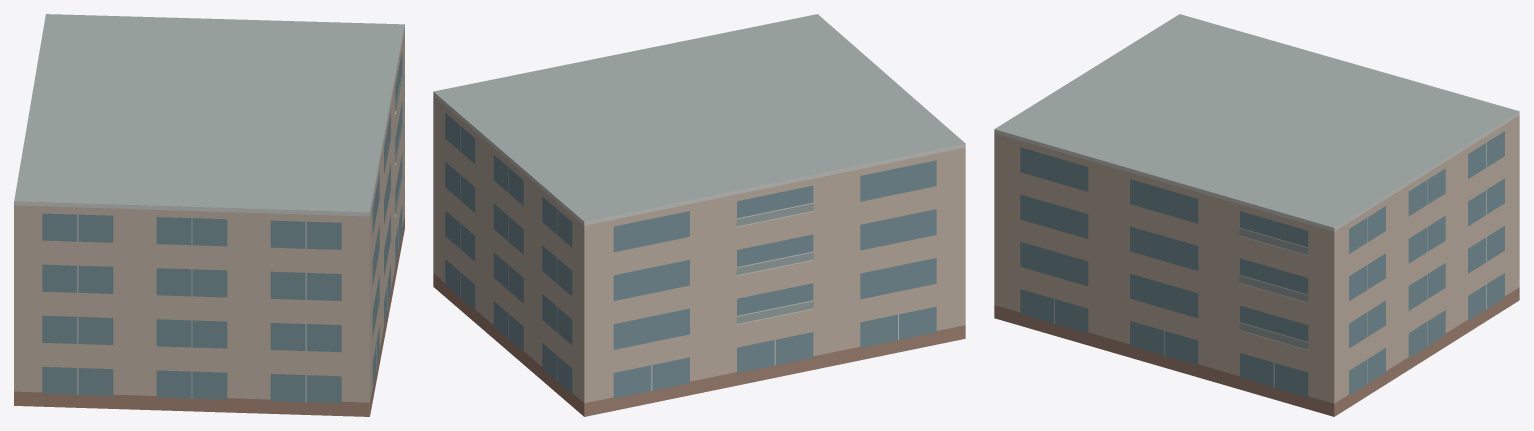
The model's file is survey-upis-32824335.glb.
The picture shows the model from 3 angles, left to right: view 1: azimuth 30°, elevation 25°; view 2: azimuth 150°, elevation 25°; view 3: azimuth 270°, elevation 25°; orthographic projection. The views are drawn at different scales.
Parts seen in each view (by area): view 1: survey-upis-32824335.tmp; view 2: survey-upis-32824335.tmp; view 3: survey-upis-32824335.tmp.
Part boxes in pixels (bbox=[...]): survey-upis-32824335.tmp: bbox=[14, 14, 404, 416]; survey-upis-32824335.tmp: bbox=[433, 14, 965, 416]; survey-upis-32824335.tmp: bbox=[994, 14, 1519, 416].
Size of the model in its own units: 29.13 by 12 by 30.23.
